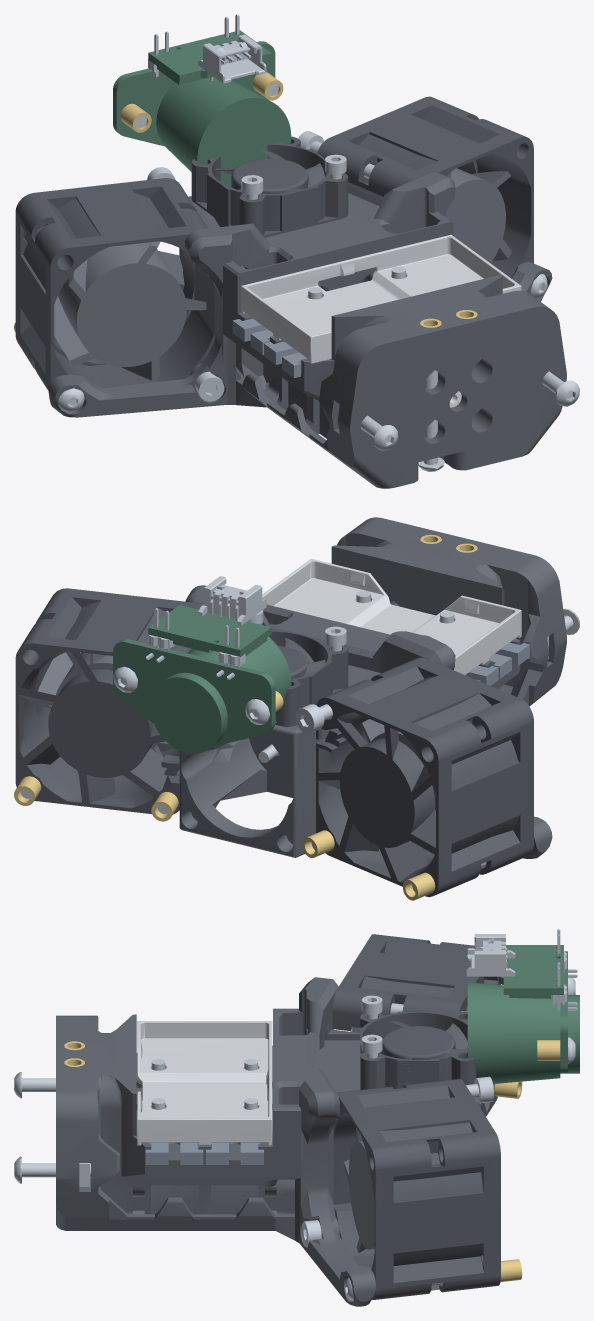
3 renders of one model, top to bottom at view 1: azimuth 30°, elevation 25°; view 2: azimuth 150°, elevation 25°; view 3: azimuth 270°, elevation 25°, orthographic. The views are drawn at different scales.
Parts seen in each view (by area): view 1: trinity_unibody, delta_3628_75, delta_3628_42, delta_3628_76, monolith_slm_belt_clamp, beacon_probe_66, delta_2510_hef_73, delta_3628_43, delta_2510_hef_74, beacon_probe_57, beacon_probe_67, apex_clip_7 (+5 smaller); view 2: delta_3628_75, trinity_unibody, delta_3628_42, beacon_probe_66, monolith_slm_belt_clamp, beacon_probe_67, delta_2510_hef_73, beacon_probe_57, delta_3628_43, delta_2510_hef_74, apex_clip_7, fastener_71 (+7 smaller); view 3: trinity_unibody, delta_3628_42, monolith_slm_belt_clamp, delta_3628_75, beacon_probe_66, delta_2510_hef_73, beacon_probe_67, delta_2510_hef_74, delta_3628_43, beacon_probe_57, apex_clip_24, apex_clip_25 (+4 smaller).
Part boxes in pixels (x1,y1,x2,y2): trinity_unibody: [48, 172, 566, 488]; delta_3628_75: [15, 178, 214, 390]; delta_3628_42: [317, 96, 533, 277]; delta_3628_76: [54, 241, 206, 380]; monolith_slm_belt_clamp: [241, 234, 521, 363]; beacon_probe_66: [113, 41, 291, 187]; delta_2510_hef_73: [191, 136, 348, 237]; delta_3628_43: [444, 168, 511, 263]; delta_2510_hef_74: [215, 150, 324, 193]; beacon_probe_57: [198, 34, 266, 83]; beacon_probe_67: [148, 30, 271, 84]; apex_clip_7: [264, 341, 306, 378]; delta_3628_75: [316, 657, 533, 897]; trinity_unibody: [157, 517, 566, 858]; delta_3628_42: [15, 588, 202, 814]; beacon_probe_66: [113, 636, 291, 753]; monolith_slm_belt_clamp: [262, 558, 521, 674]; beacon_probe_67: [148, 605, 271, 656]; delta_2510_hef_73: [261, 624, 348, 726]; beacon_probe_57: [198, 576, 266, 625]; delta_3628_43: [34, 652, 162, 774]; delta_2510_hef_74: [277, 638, 325, 678]; apex_clip_7: [489, 642, 529, 679]; fastener_71: [295, 704, 332, 733]; trinity_unibody: [56, 977, 481, 1306]; delta_3628_42: [333, 1078, 500, 1299]; monolith_slm_belt_clamp: [137, 1021, 272, 1145]; delta_3628_75: [332, 934, 500, 1116]; beacon_probe_66: [467, 951, 579, 1083]; delta_2510_hef_73: [360, 1011, 476, 1089]; beacon_probe_67: [499, 945, 563, 998]; delta_2510_hef_74: [379, 1021, 467, 1059]; delta_3628_43: [344, 1127, 374, 1252]; beacon_probe_57: [466, 934, 515, 976]; apex_clip_24: [145, 1142, 203, 1164]; apex_clip_25: [206, 1142, 263, 1164].
Bounding box in the file's own units: 0.1192 × 0.0609 × 0.1222.
